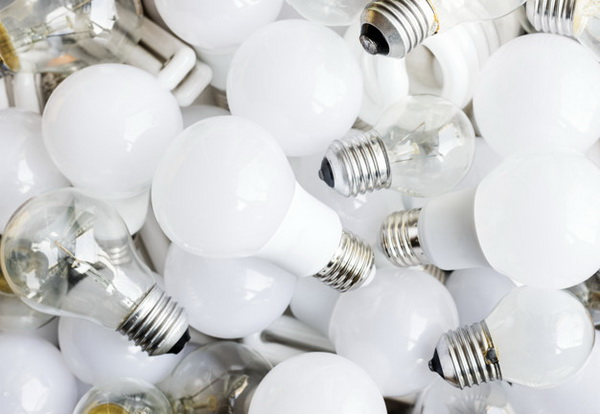Light_bulb: (144, 112, 381, 308), (1, 183, 197, 369), (317, 87, 482, 212), (422, 283, 600, 397)
